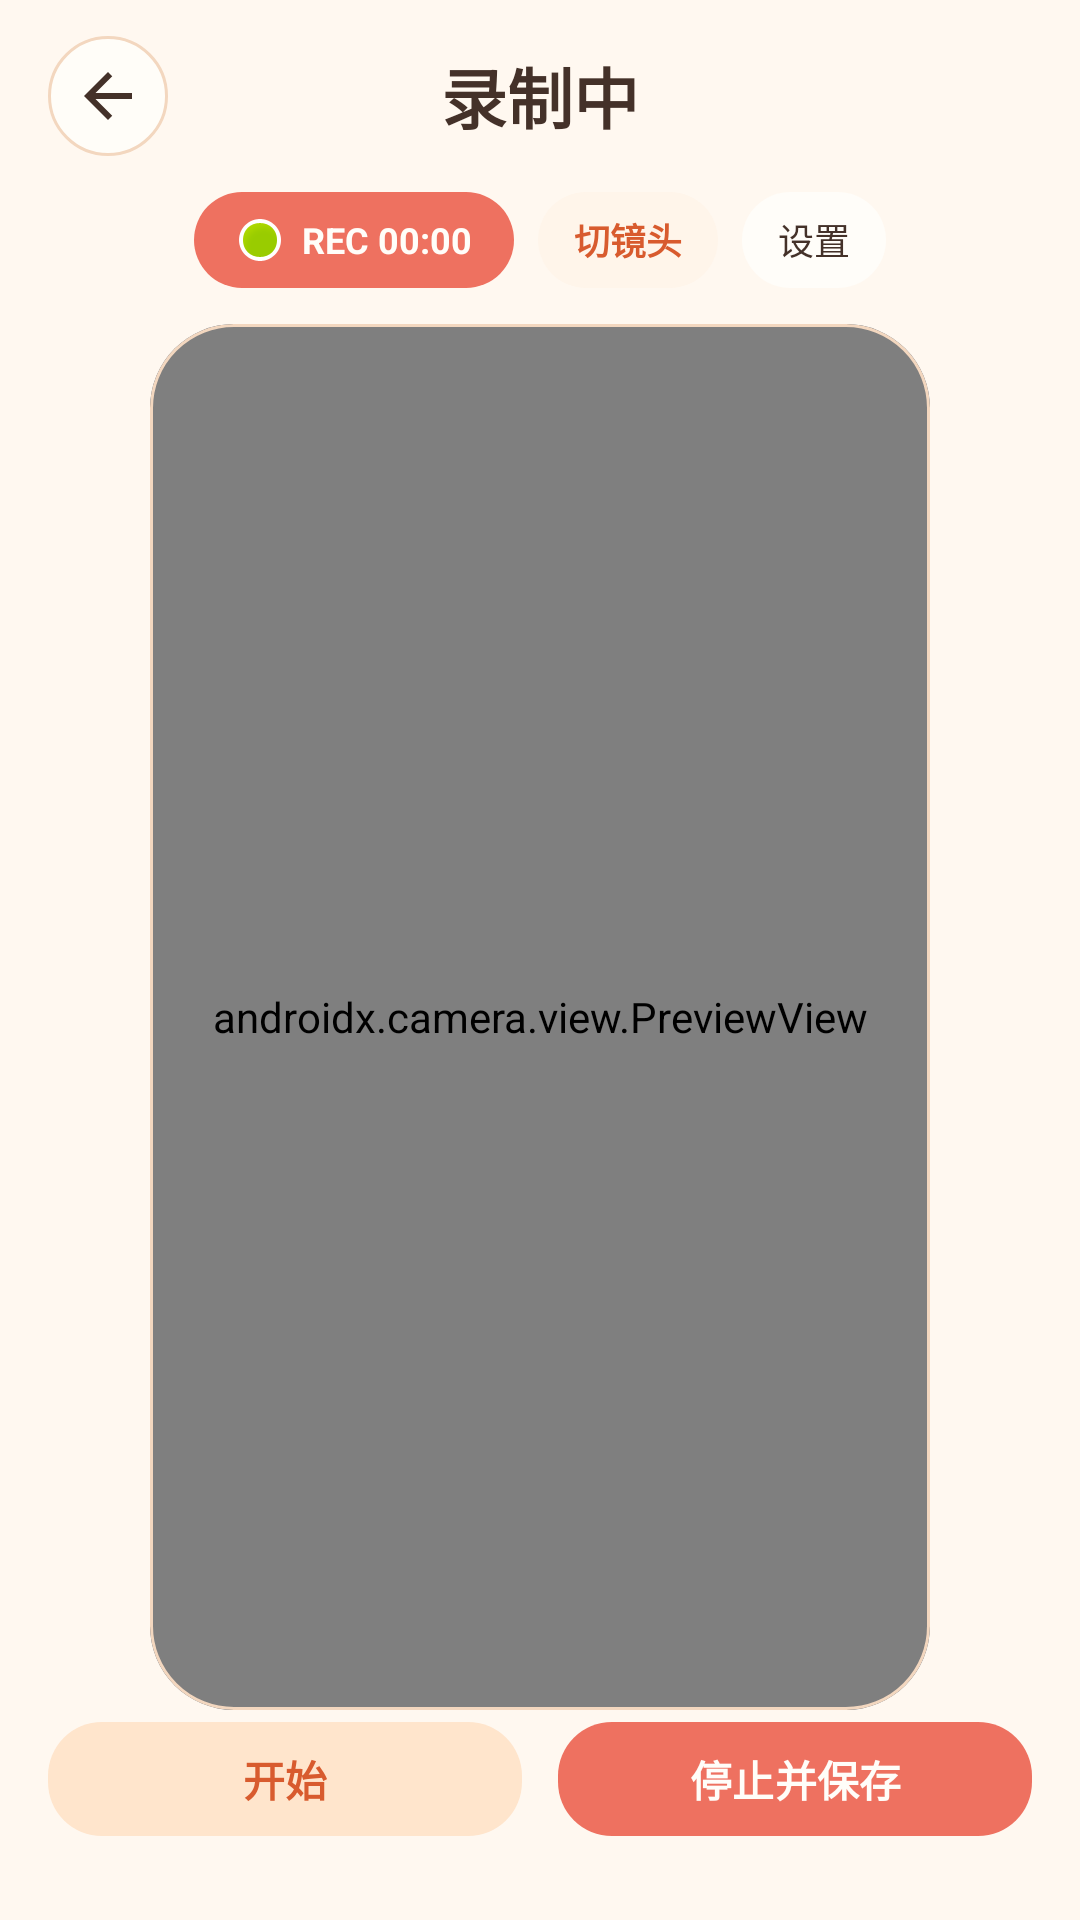

Screen size 1080px x 1920px. Icon name, then its box in pixels as (x1, y1, x2, y2):
返回: (48, 36, 168, 156)
